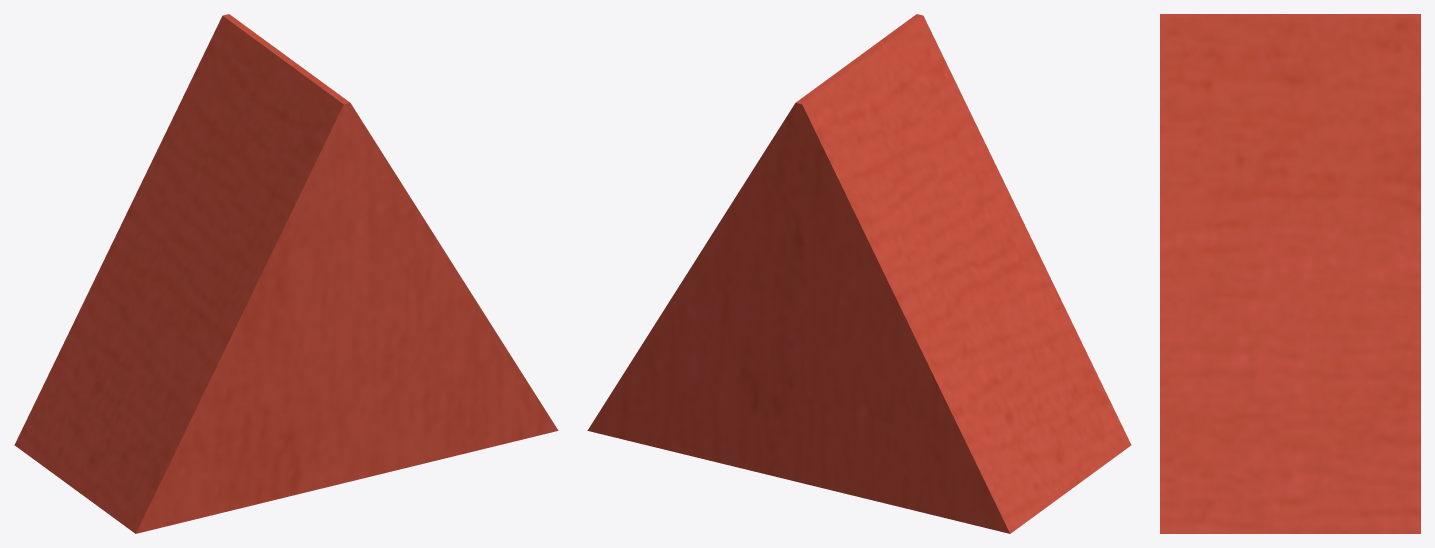
The model's file is JeuEnBois4.fbx.
The picture shows the model from 3 angles, left to right: view 1: azimuth 30°, elevation 25°; view 2: azimuth 150°, elevation 25°; view 3: azimuth 270°, elevation 25°; orthographic projection. The views are drawn at different scales.
Parts seen in each view (by area): view 1: Box034; view 2: Box034; view 3: Box034.
Part boxes in pixels (x1=…): Box034: x1=14, y1=14, x2=558, y2=533; Box034: x1=587, y1=14, x2=1131, y2=533; Box034: x1=1160, y1=14, x2=1420, y2=533.
Size of the model in its own units: 58.96 by 29.29 by 50.46.
1 material, 1 textured.
